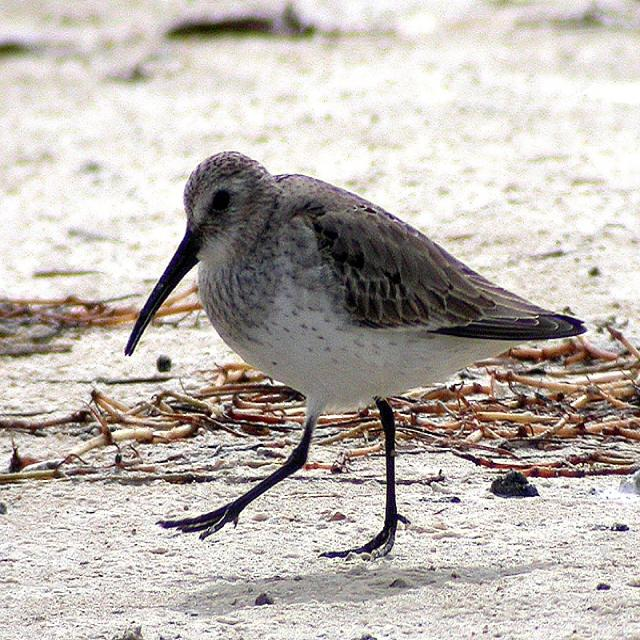bird: (118, 137, 589, 591)
